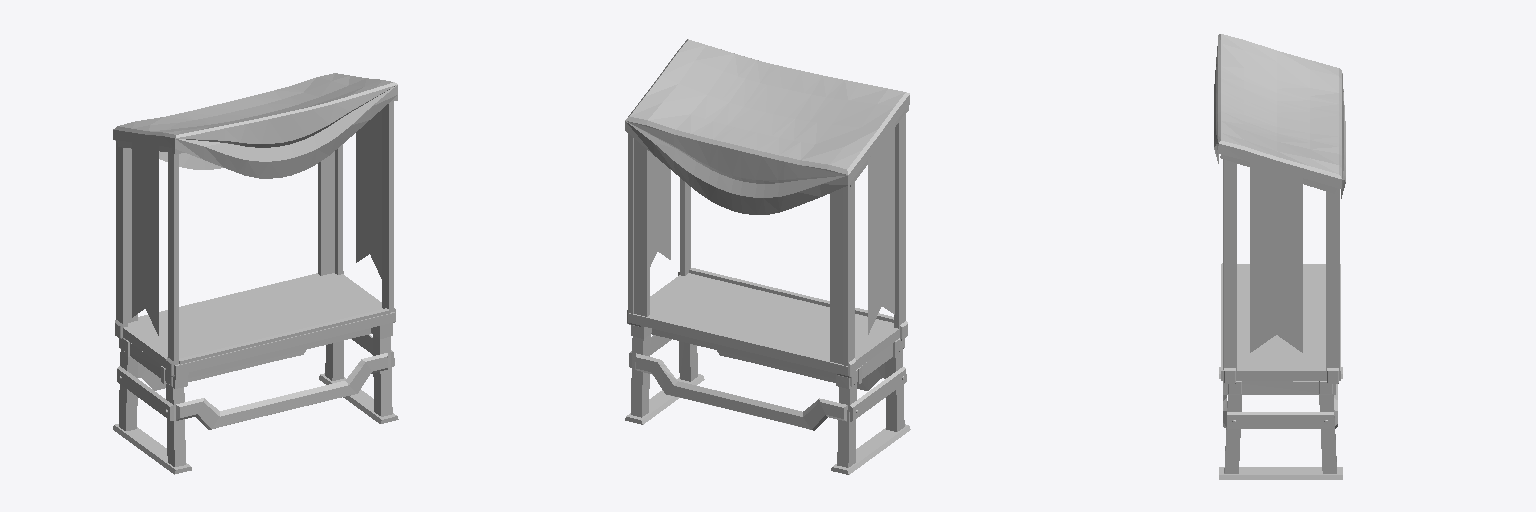
Rendered from Stall_Empty.obj.
3 views of the same model, side by side, from view 1: azimuth 30°, elevation 25°; view 2: azimuth 150°, elevation 25°; view 3: azimuth 270°, elevation 25° (orthographic).
Visible parts, largest first — view 1: Stall_Empty_Cube.212; view 2: Stall_Empty_Cube.212; view 3: Stall_Empty_Cube.212.
Part boxes in pixels (x1,y1,x2,y2): Stall_Empty_Cube.212: (113, 73, 398, 474); Stall_Empty_Cube.212: (625, 39, 910, 474); Stall_Empty_Cube.212: (1214, 34, 1345, 479).
Size of the model in its own units: 1.84 by 2.63 by 0.9323.